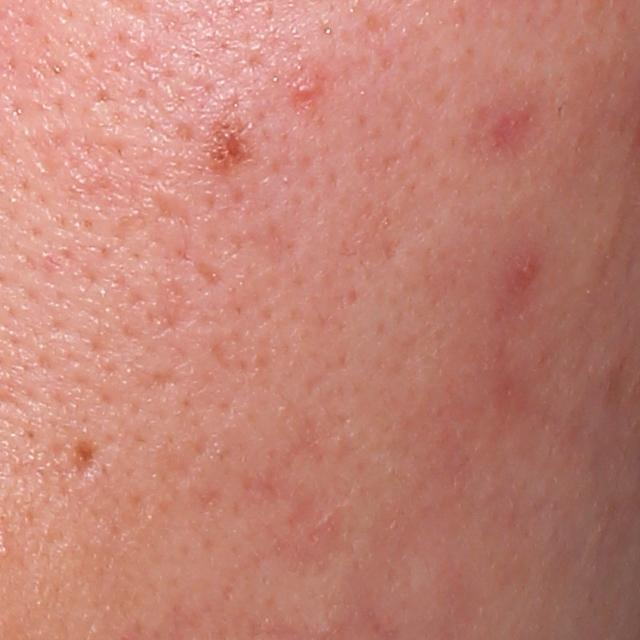atrophic_scar: (151, 189, 193, 229), (69, 436, 100, 483), (190, 259, 224, 291)
nevus: (207, 108, 254, 176)
papule: (501, 244, 547, 291), (286, 58, 330, 105)
